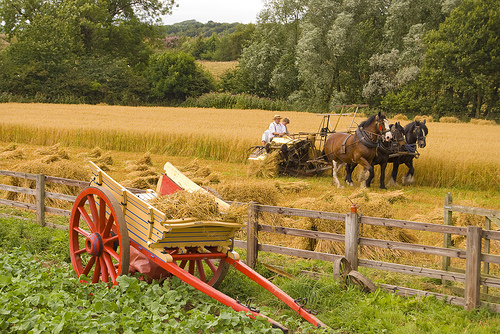horse: (319, 111, 390, 189), (383, 118, 430, 189), (367, 120, 409, 191)
